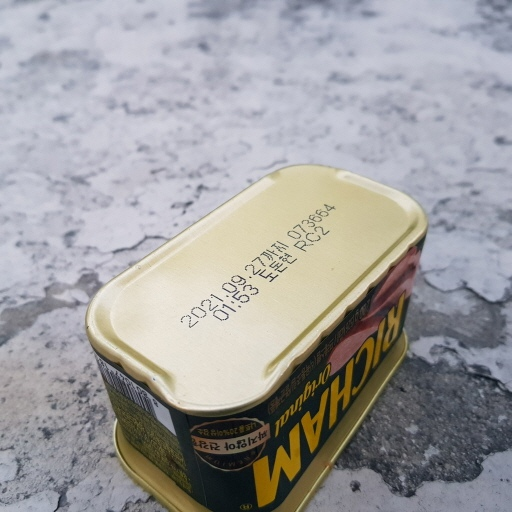Metal_2: (86, 164, 429, 512)
